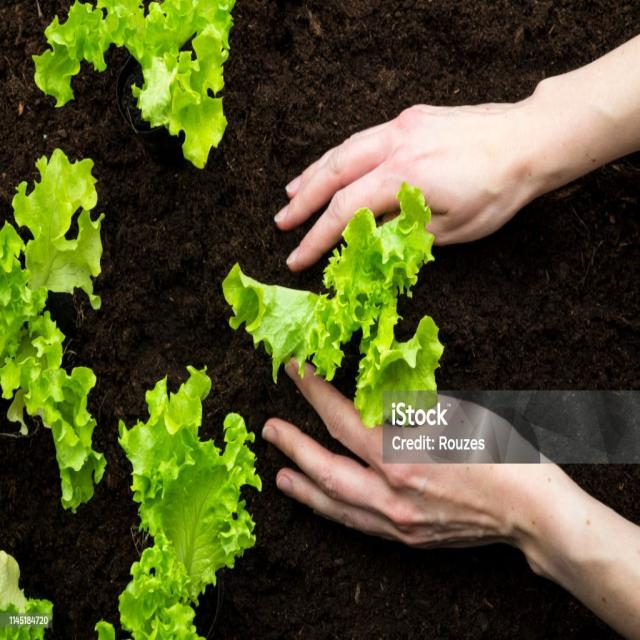Lettuce-Not-Ready-to-Harvest: (221, 189, 448, 427), (0, 147, 108, 516), (119, 363, 259, 640), (34, 0, 234, 167)
